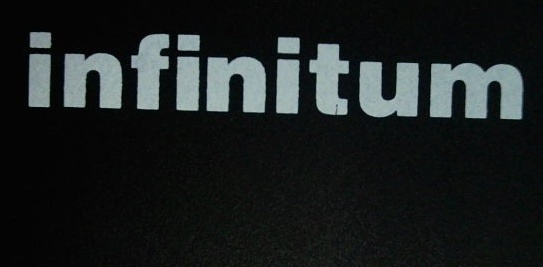BK_infinitum: (20, 29, 524, 124)
